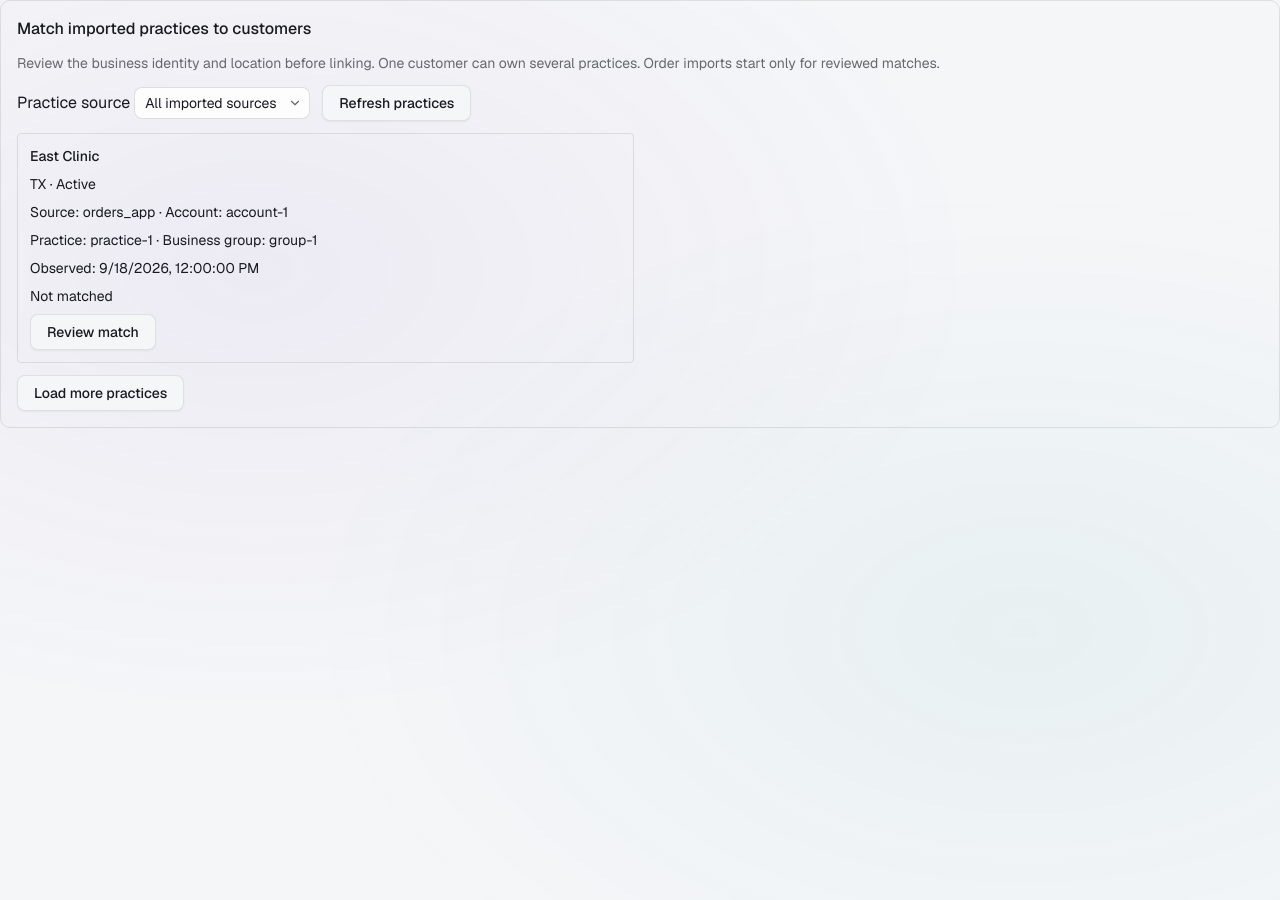
Test case: Business identity review › preserves the cursor and existing records after a failed next-page read
Click the button "Load more practices".
click(101, 393)  # box [17,375,184,411]
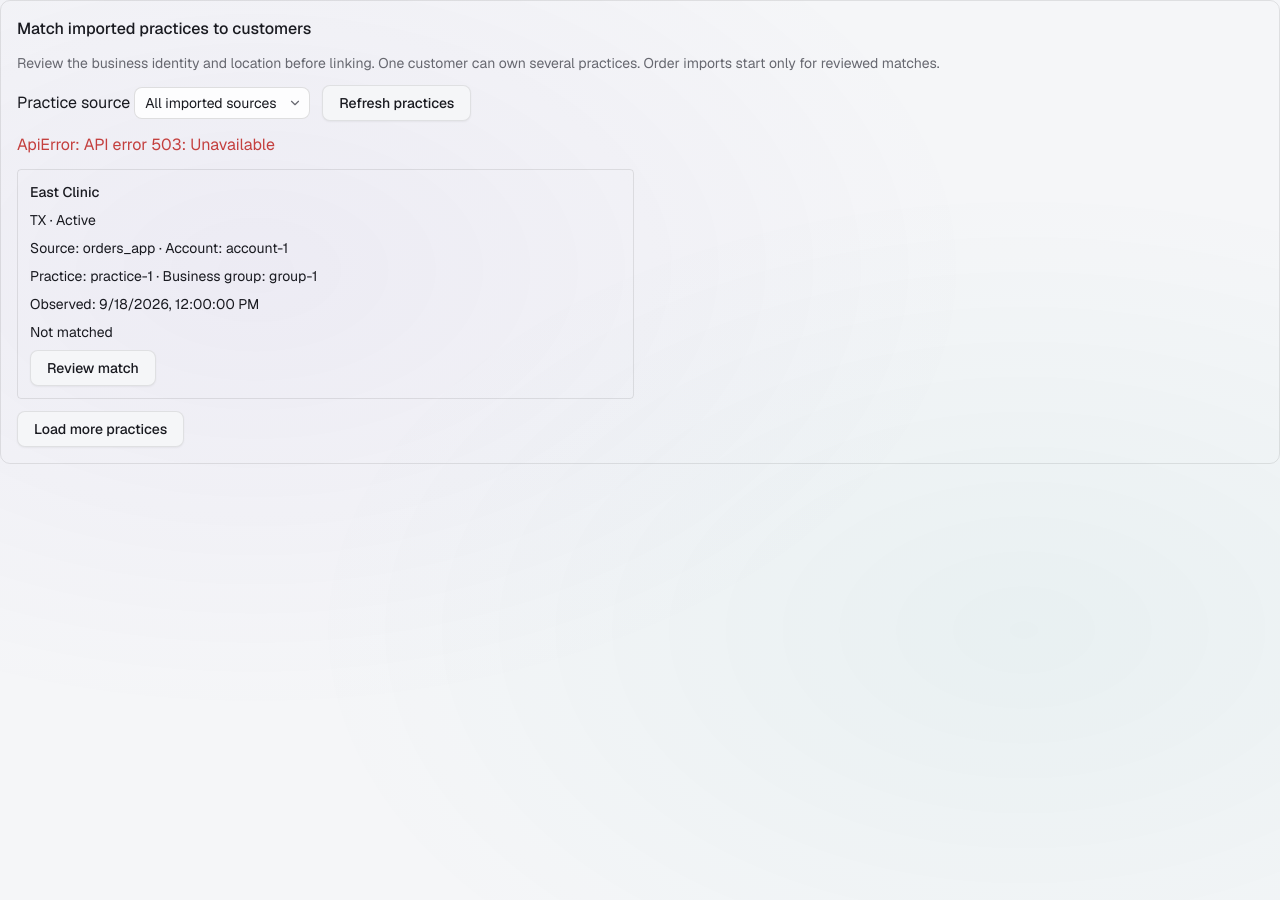
Expected: the heading "East Clinic" is shown, [30,183,99,201]
Result: the message shows "503" at [17,134,275,155]
Click the button "Load more practices".
click(101, 429)  # box [17,411,184,447]
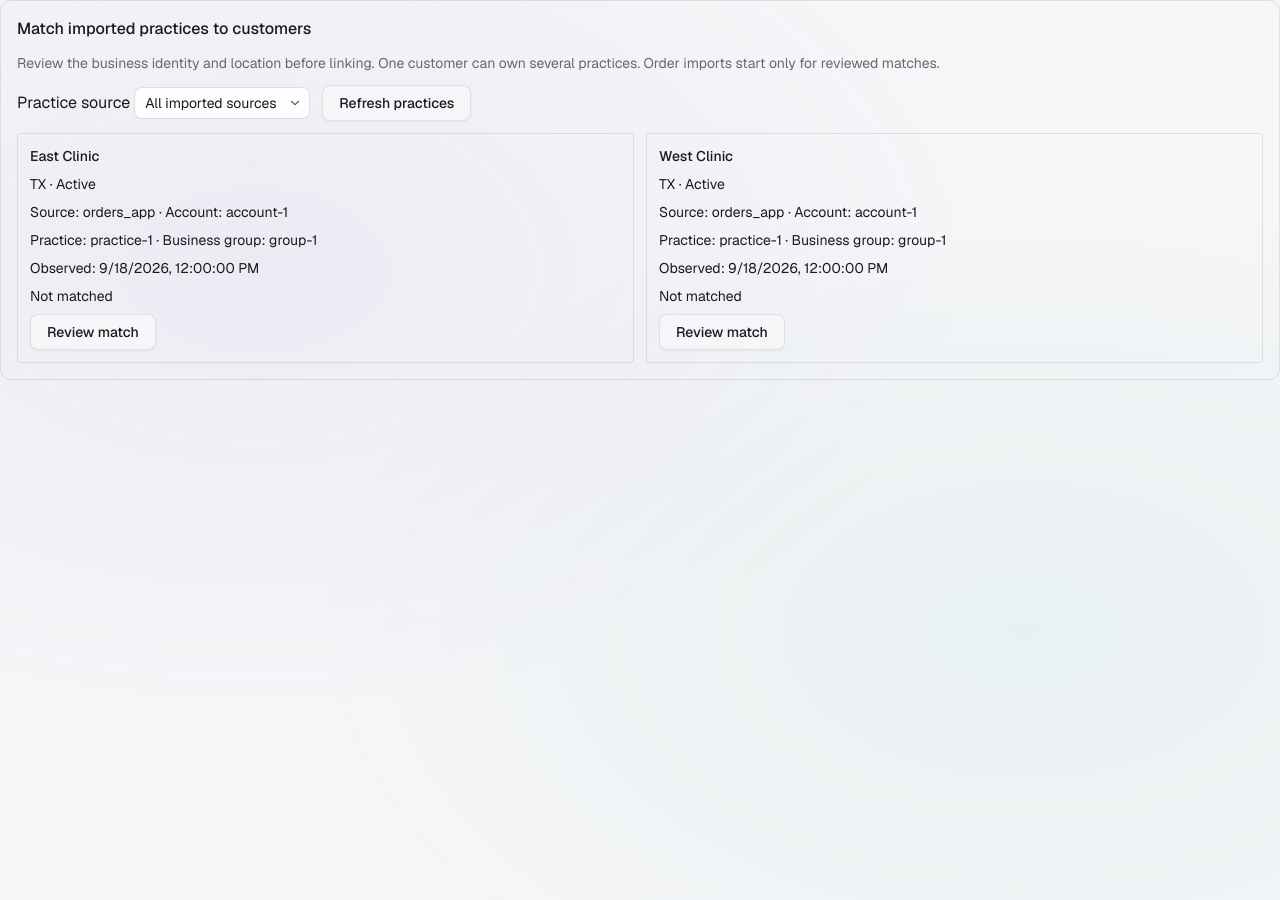
Expected: the heading "East Clinic" is shown, [30,147,99,165]
Result: the heading "West Clinic" is shown at [659,147,733,165]
